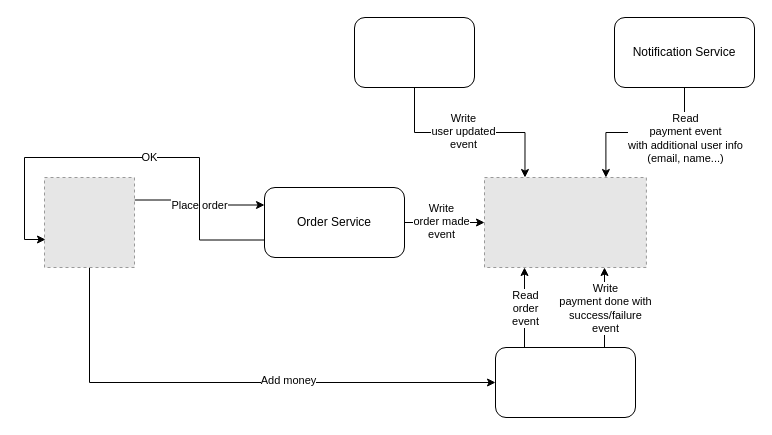
Some shapes in this 772 by 435 pixel diagram are drawn without their labels. Grey dashed boxes stand in for pictures. Each missing label, with the centre of its shape:
"Billing Service" belongs at point 565,382.
"Identity service" belongs at point 414,52.
